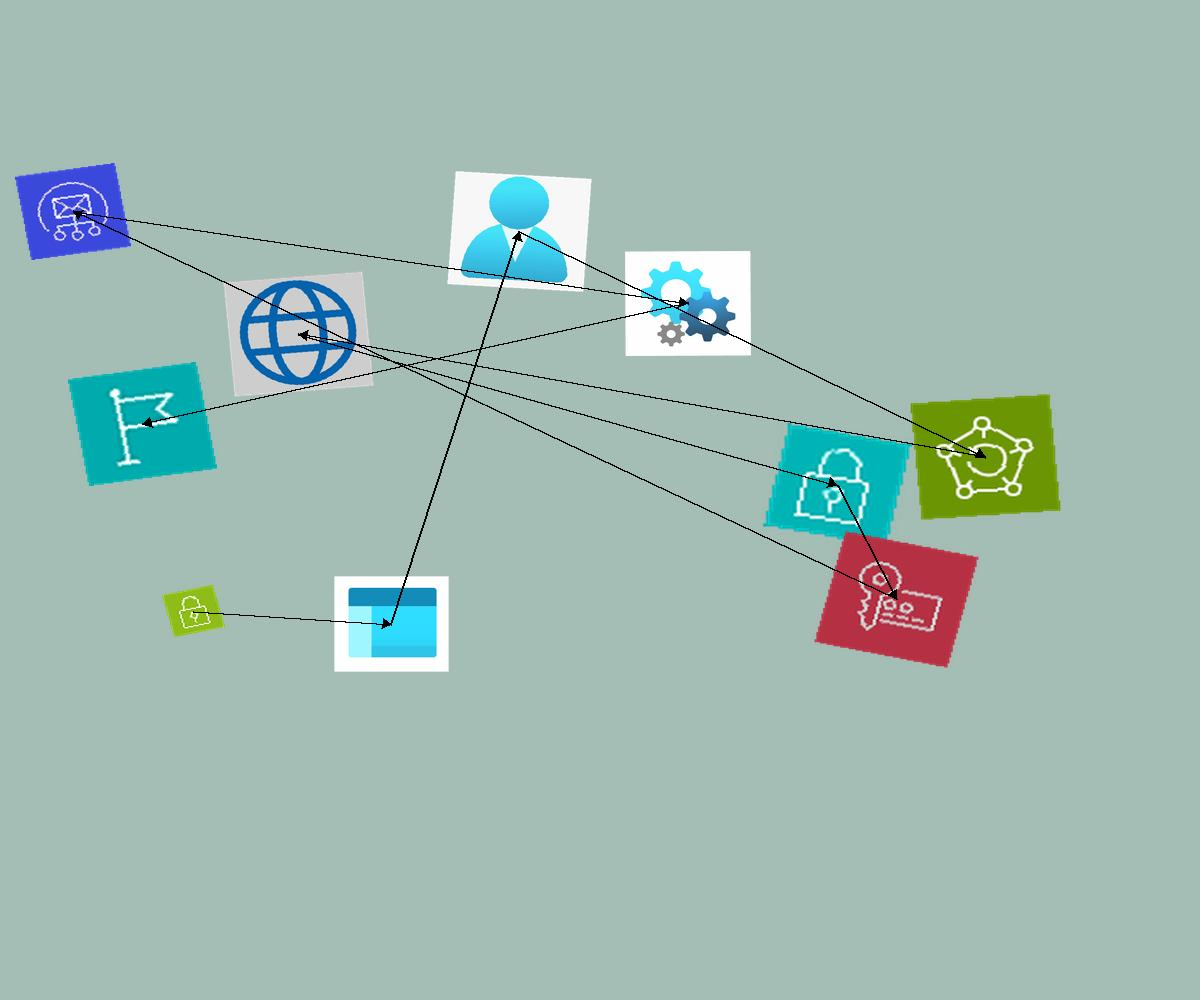AWS-Backup: (909, 393, 1062, 521)
AWS-Key-Management-Service: (813, 530, 980, 669)
AWS-Private-subnet: (763, 423, 912, 547)
AWS-Public-subnet: (161, 584, 226, 638)
AWS-Region: (68, 362, 217, 486)
AWS-Simple-Email-Service: (15, 163, 131, 260)
Azure_api: (625, 251, 751, 356)
Azure_http: (223, 271, 374, 397)
Azure_management-portal: (334, 576, 449, 672)
Azure_users: (447, 171, 592, 292)
